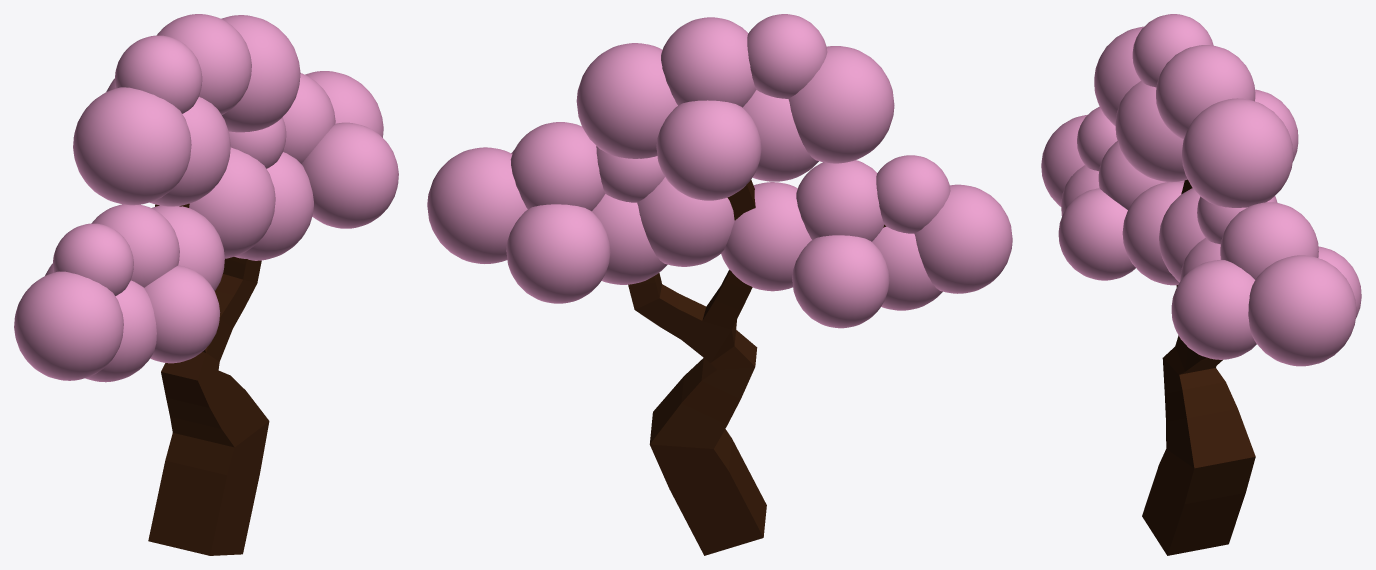
File: Cherry Blossom Tree.fbx
3 renders of one model, left to right at view 1: azimuth 30°, elevation 25°; view 2: azimuth 150°, elevation 25°; view 3: azimuth 270°, elevation 25°, orthographic. The views are drawn at different scales.
Visible parts, largest first — view 1: 平面; view 2: 平面; view 3: 平面.
Boxes of the visible parts, x1,y1,x2,y2 form: 平面: (14,14,398,555); 平面: (427,14,1012,555); 平面: (1041,14,1361,555).
Size of the model in its own units: 435 by 478 by 276.
